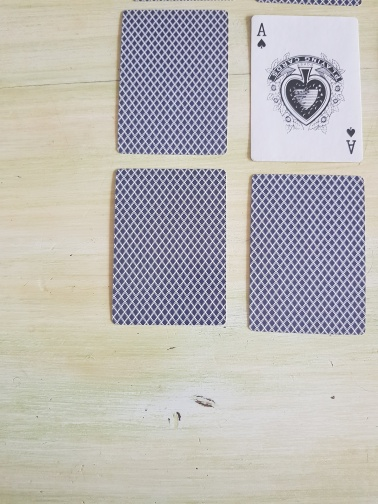ace: (250, 14, 364, 163)
